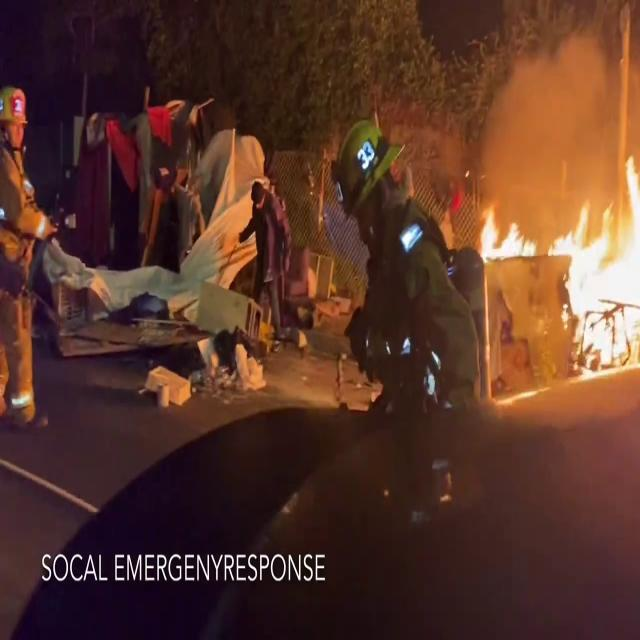Fire: (480, 138, 640, 374)
